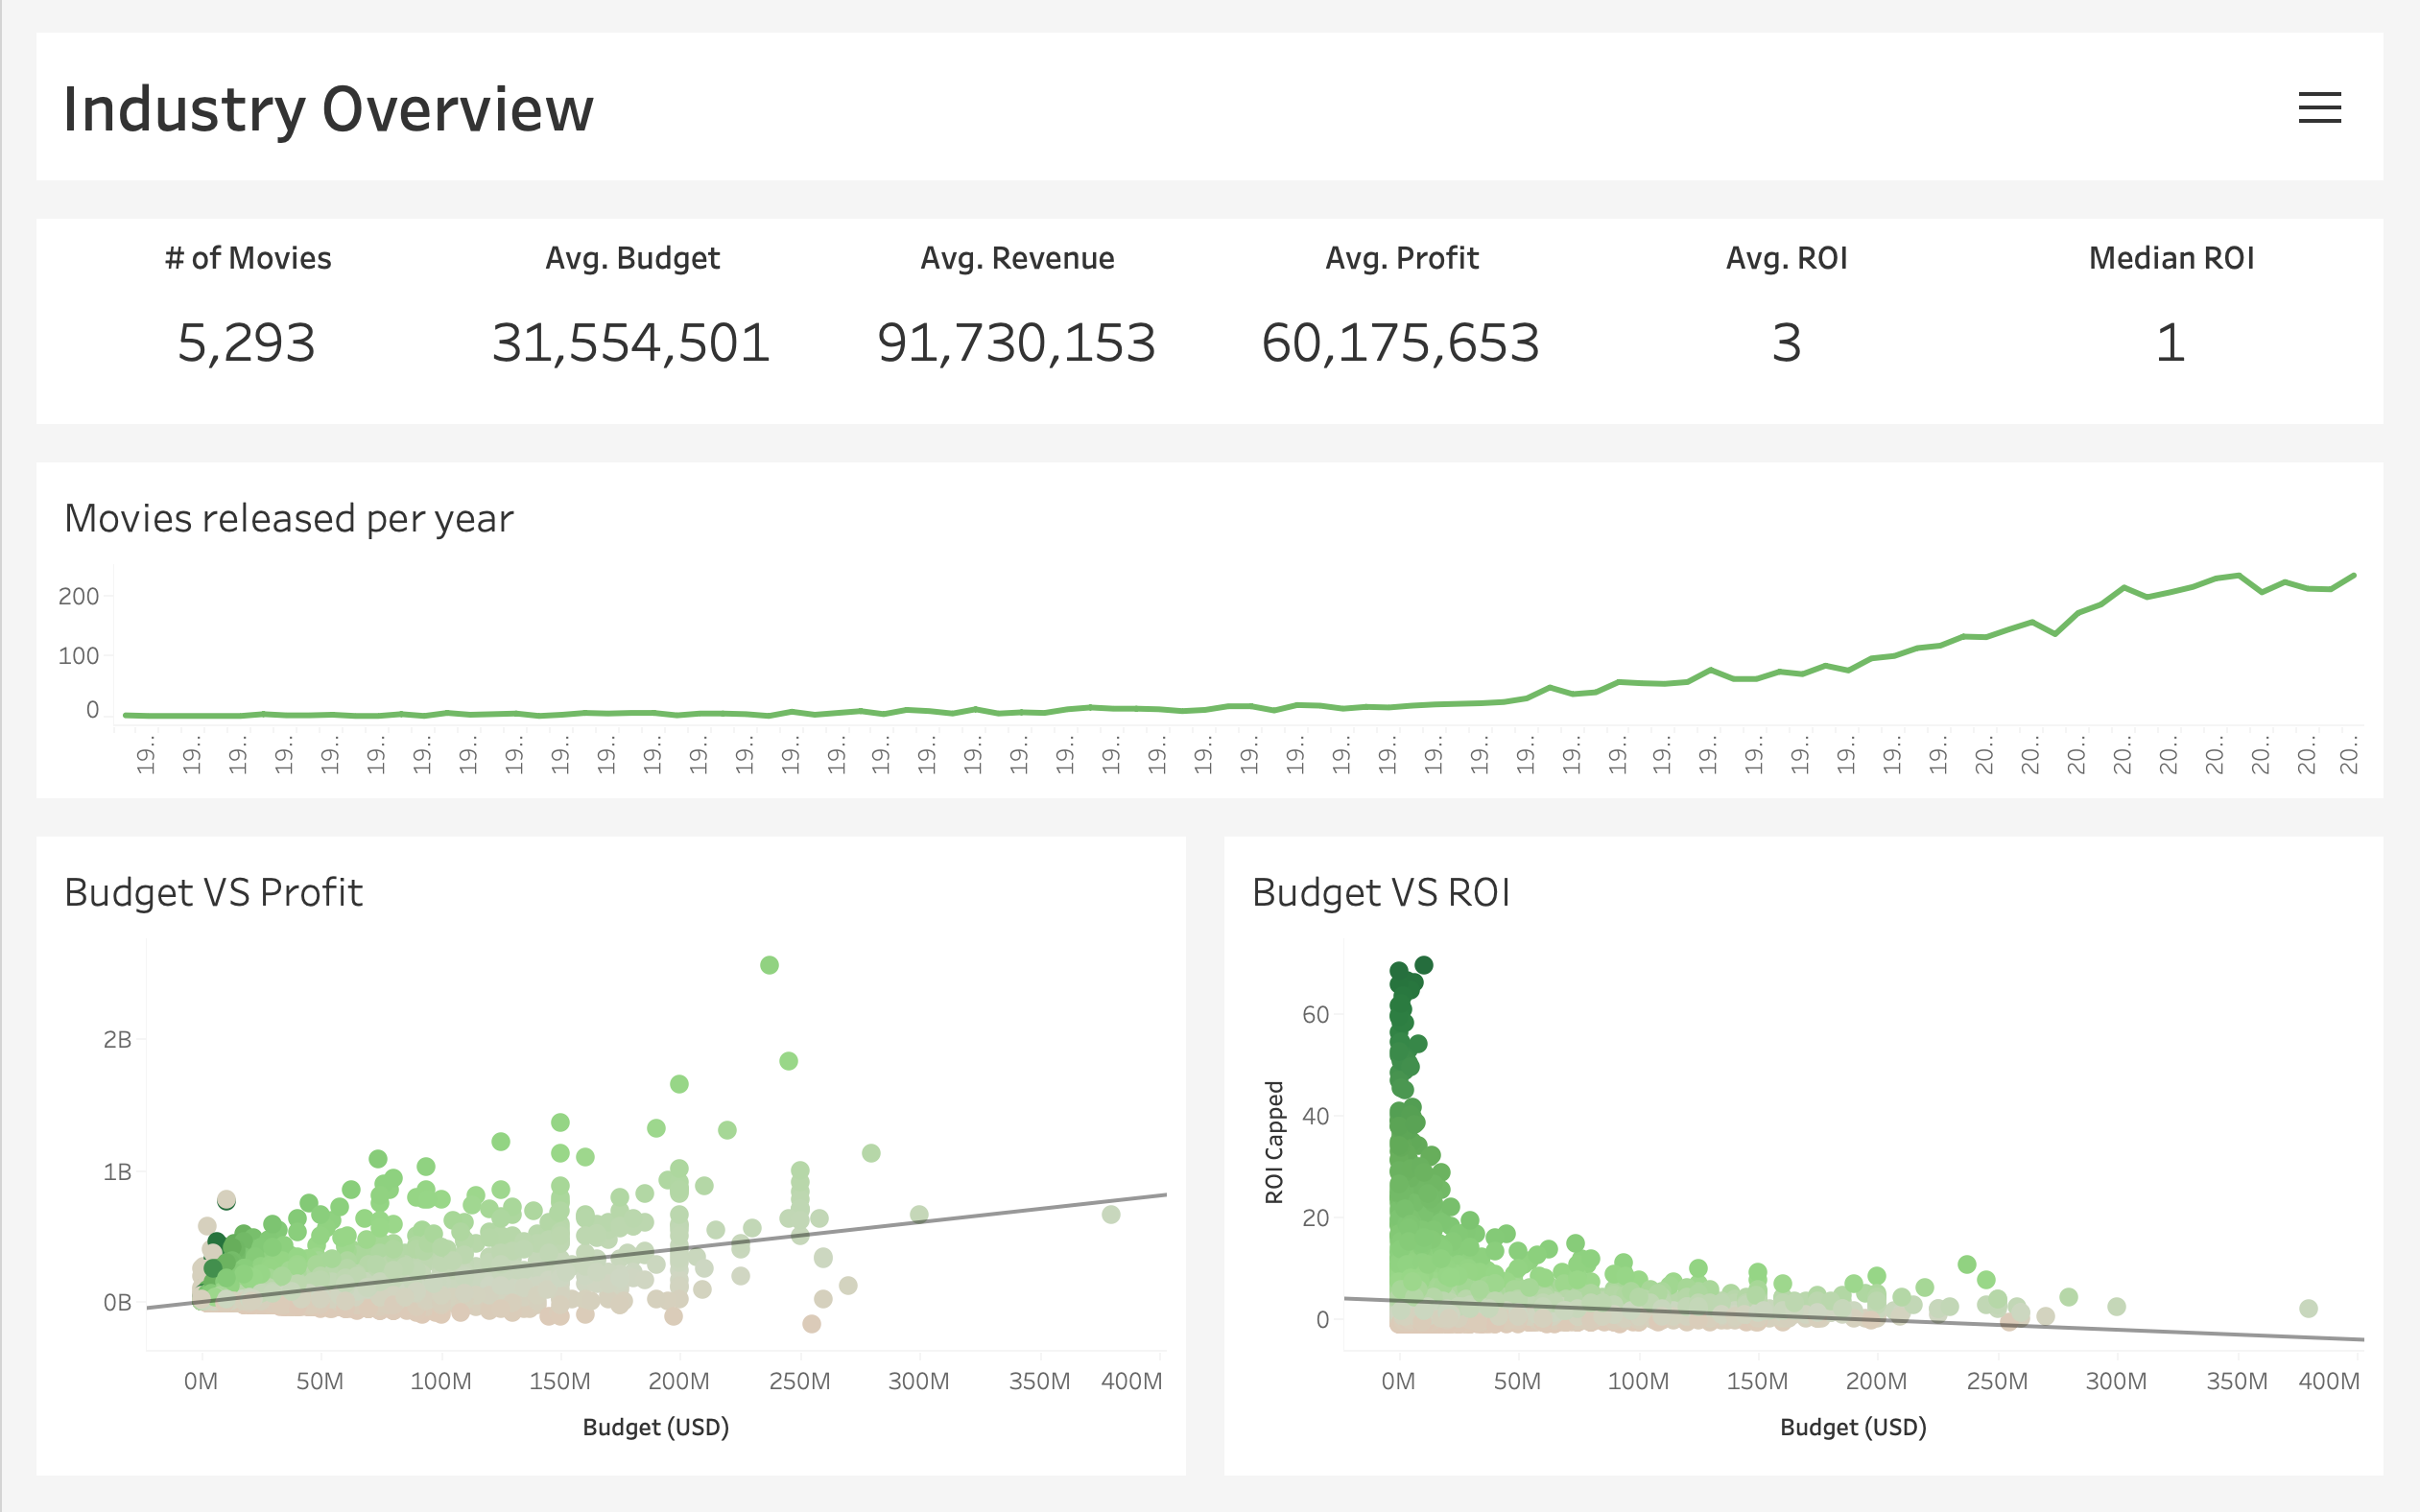

The dashboard page shown, as its layout file describes it:
{"tool":"tableau","page":{"name":"1 - Industry Overview Dashboard","canvas":[1000,1000],"units":"permille","ordinal":0},"visuals":[{"type":"text","box":[6.4,10.2,987.3,123.1]},{"type":"dashboard-object","box":[801.4,57.1,130.3,115.5]},{"type":"dashboard-object","box":[950,57.1,19.1,30.5]},{"type":"worksheet","title":"KPIs","mark":"Automatic","box":[6.4,133.2,987.3,161.2]},{"type":"dashboard-object","box":[801.4,172.6,130.3,114.2]},{"type":"worksheet","title":"Movies released per year","mark":"Automatic","rows":["id"],"cols":["release_date"],"box":[6.4,294.4,987.3,247.5]},{"type":"worksheet","title":"Budget VS Profit","mark":"Automatic","rows":["profit"],"cols":["budget"],"box":[6.4,541.9,491.7,448]},{"type":"worksheet","title":"Budget VS ROI","mark":"Automatic","rows":["Calculation_4407124089761181697"],"cols":["budget"],"box":[498,541.9,495.6,448]}]}

Visuals, with their boxes on the dashboard's canvas, which has no fixed pixel size, in thousandths of its width and height (x1, y1, x2, y2). These are canvas units, not pixel positions in the 2420x1512 screenshot, which may show the page scaled, cropped or inside an application window:
text: 6, 10, 994, 133
dashboard-object: 801, 57, 932, 173
dashboard-object: 950, 57, 969, 88
"KPIs" worksheet: 6, 133, 994, 294
dashboard-object: 801, 173, 932, 287
"Movies released per year" worksheet: 6, 294, 994, 542
"Budget VS Profit" worksheet: 6, 542, 498, 990
"Budget VS ROI" worksheet: 498, 542, 994, 990
